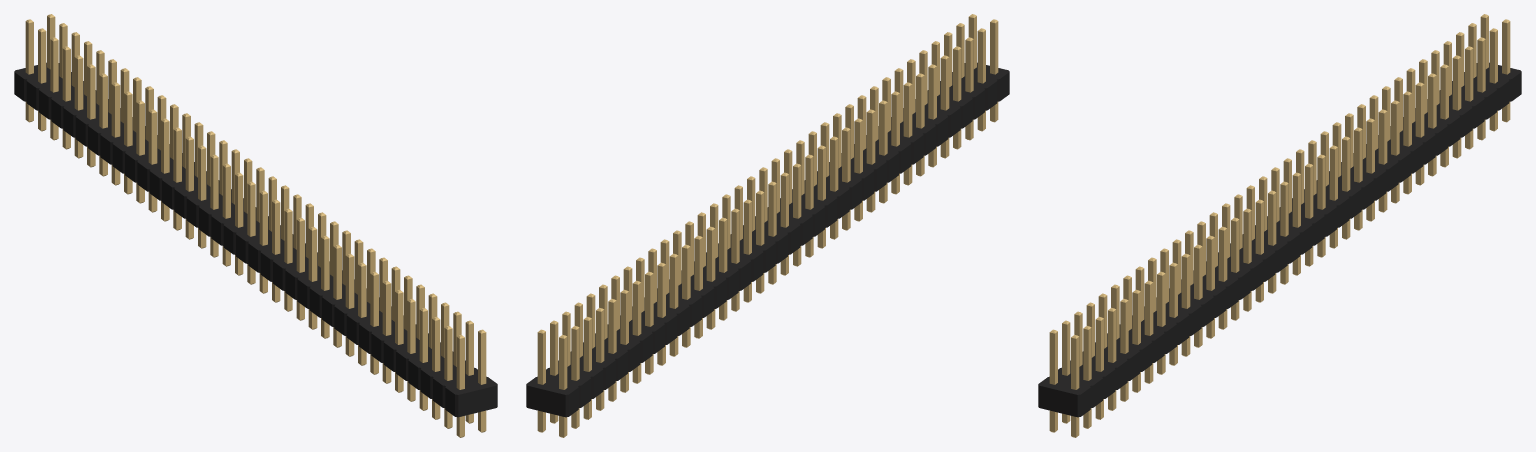
File: kc-pinheader_2x36_p2.54mm_vertical.glb
3 views of the same model, side by side, from view 1: azimuth 30°, elevation 25°; view 2: azimuth 150°, elevation 25°; view 3: azimuth 330°, elevation 25° (orthographic).
Visible parts, largest first — view 1: 0.75_0.5_0.25_0.9, 0_0_0_0; view 2: 0.75_0.5_0.25_0.9, 0_0_0_0; view 3: 0.75_0.5_0.25_0.9, 0_0_0_0.
Boxes of the visible parts, x1,y1,x2,y2 form: 0.75_0.5_0.25_0.9: (25,14,486,437); 0_0_0_0: (14,62,497,417); 0.75_0.5_0.25_0.9: (537,14,998,437); 0_0_0_0: (526,62,1009,417); 0.75_0.5_0.25_0.9: (1049,14,1510,437); 0_0_0_0: (1038,62,1521,417).
Bounding box in the file's own units: 0.5079 × 1.15 × 9.14.
